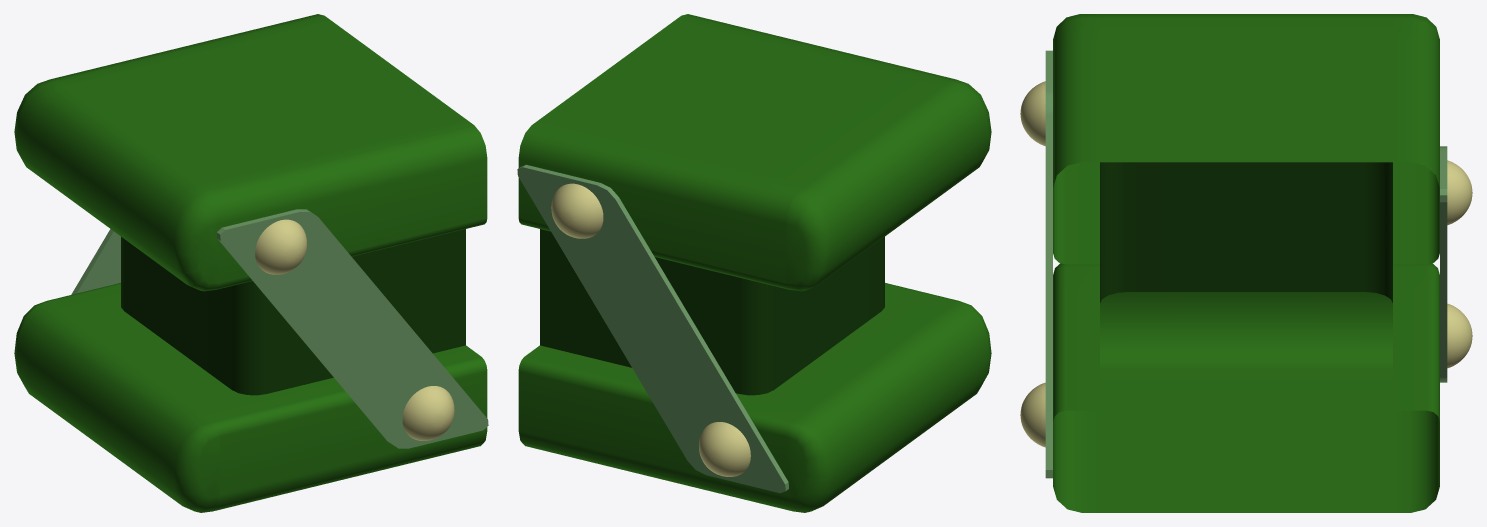
Rendered from a1_RL_tekkotu.fbx.
3 views of the same model, side by side, from view 1: azimuth 30°, elevation 25°; view 2: azimuth 150°, elevation 25°; view 3: azimuth 270°, elevation 25° (orthographic). The views are drawn at different scales.
Visible parts, largest first — view 1: RL_tekkotu; view 2: RL_tekkotu; view 3: RL_tekkotu.
Part boxes in pixels (x1,y1,x2,y2): RL_tekkotu: [14, 14, 488, 512]; RL_tekkotu: [517, 14, 991, 512]; RL_tekkotu: [1020, 14, 1472, 512].
Size of the model in its own units: 1.99 by 2 by 2.34.
